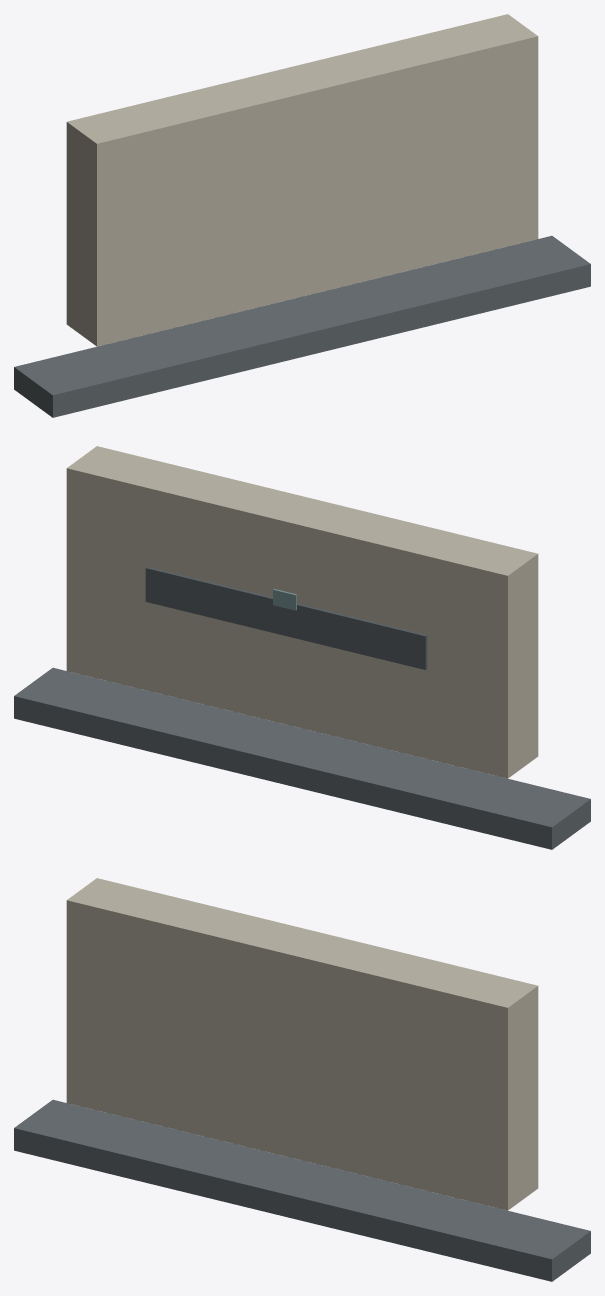
File: iz3_military_hangar_01.glb
3 views of the same model, one above another, from view 1: azimuth 30°, elevation 25°; view 2: azimuth 150°, elevation 25°; view 3: azimuth 330°, elevation 25° (orthographic).
Parts seen in each view (by area): view 1: cabinet, base; view 2: cabinet, base, panel; view 3: cabinet, base.
Part boxes in pixels (left/top/right/bottom): cabinet: left=66, top=14, right=538, bottom=346; base: left=14, top=235, right=590, bottom=417; cabinet: left=66, top=446, right=538, bottom=778; base: left=14, top=667, right=590, bottom=849; panel: left=145, top=567, right=427, bottom=669; cabinet: left=66, top=878, right=538, bottom=1210; base: left=14, top=1099, right=590, bottom=1281.
Bounding box in the file's own units: 8 × 3.68 × 1.
